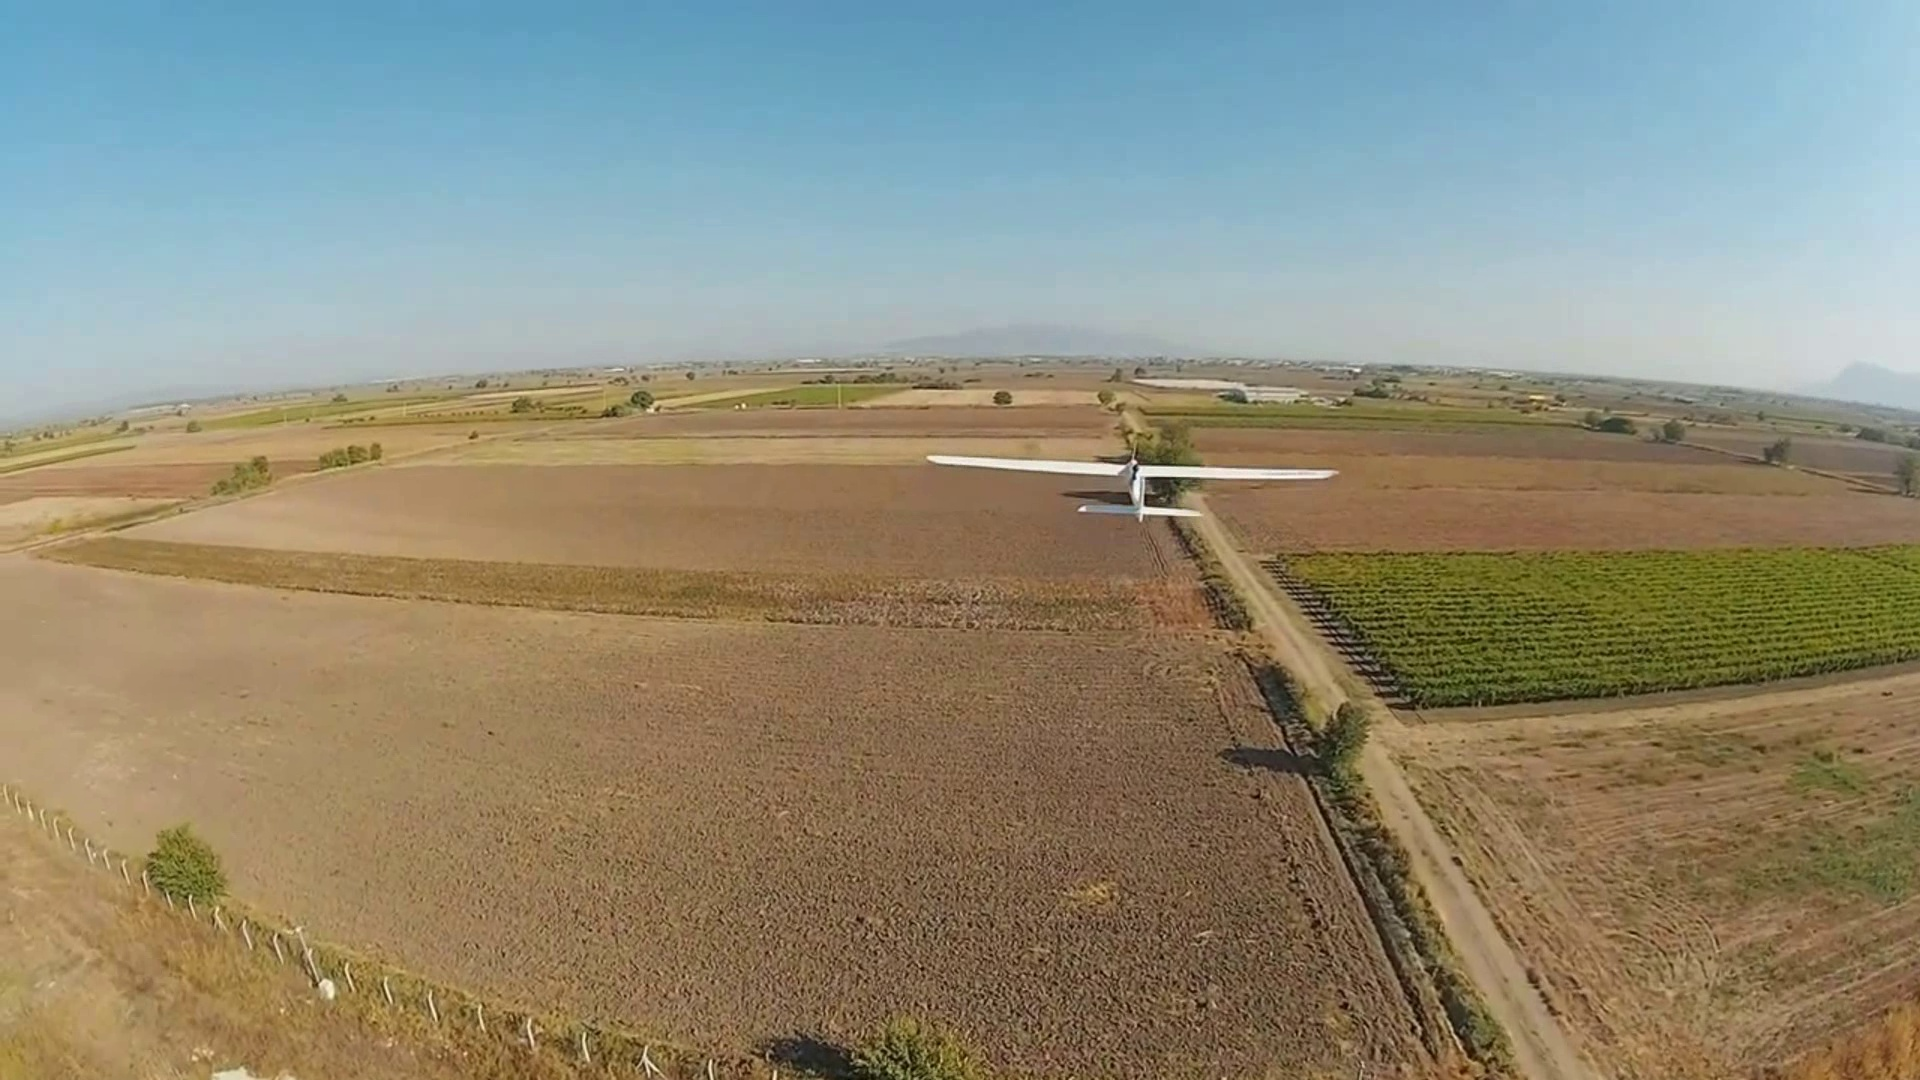airplane: (922, 419, 1337, 522)
